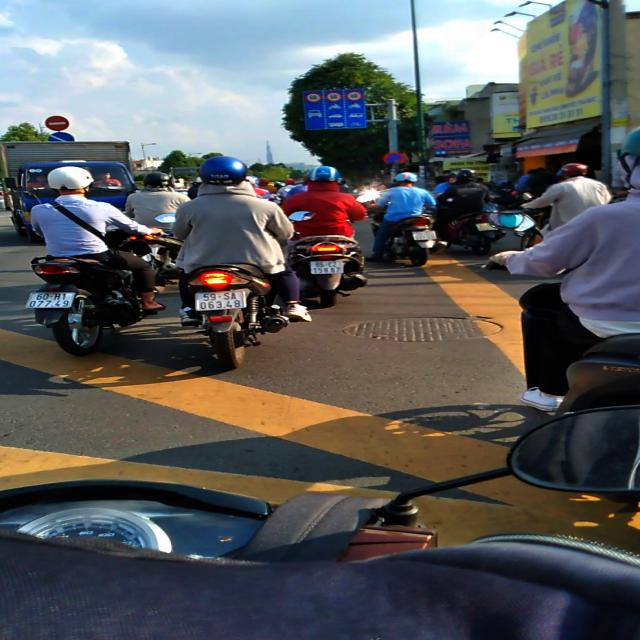Cam do: (382, 152, 407, 166)
Cam nguoc chieu: (44, 115, 70, 131)
Hieu lenh: (48, 132, 74, 148)
Toc do toi da: (304, 92, 323, 103), (345, 91, 363, 101), (325, 92, 342, 102)
